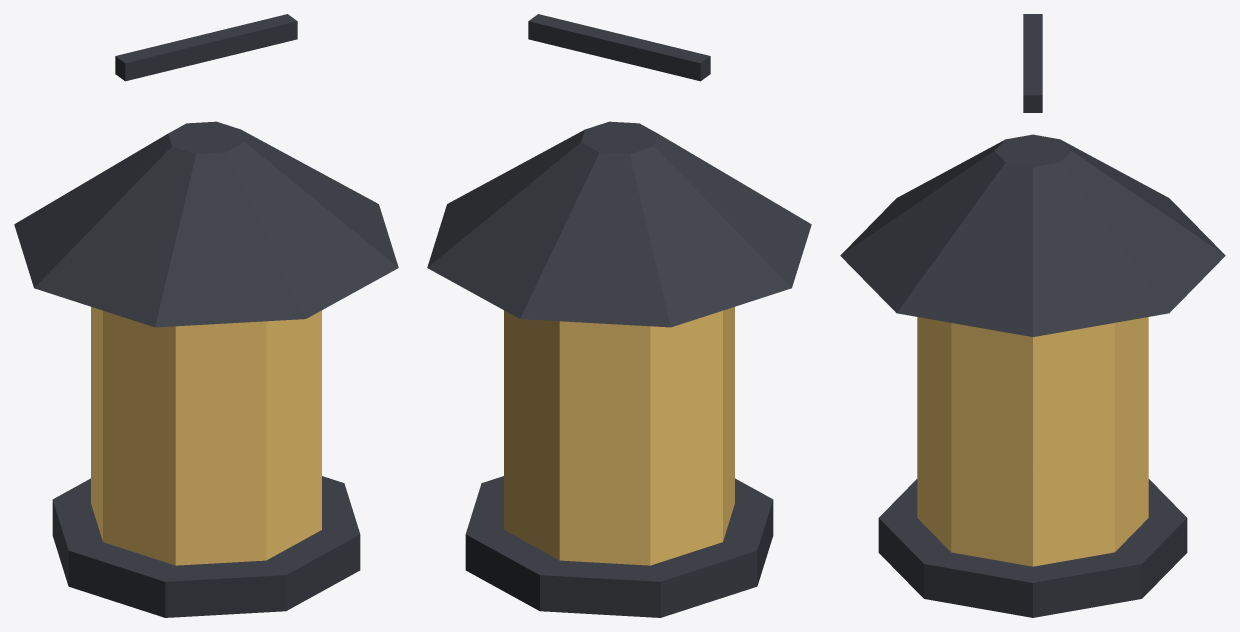
Rendered from oil_lantern.glb.
3 renders of one model, left to right at view 1: azimuth 30°, elevation 25°; view 2: azimuth 150°, elevation 25°; view 3: azimuth 270°, elevation 25°, orthographic. The views are drawn at different scales.
Visible parts, largest first — view 1: oil_lantern; view 2: oil_lantern; view 3: oil_lantern.
Boxes of the visible parts, left/top/right/bottom form: oil_lantern: left=14, top=14, right=398, bottom=617; oil_lantern: left=427, top=14, right=811, bottom=617; oil_lantern: left=840, top=14, right=1225, bottom=617.
Size of the model in its own units: 0.2 by 0.285 by 0.2.
